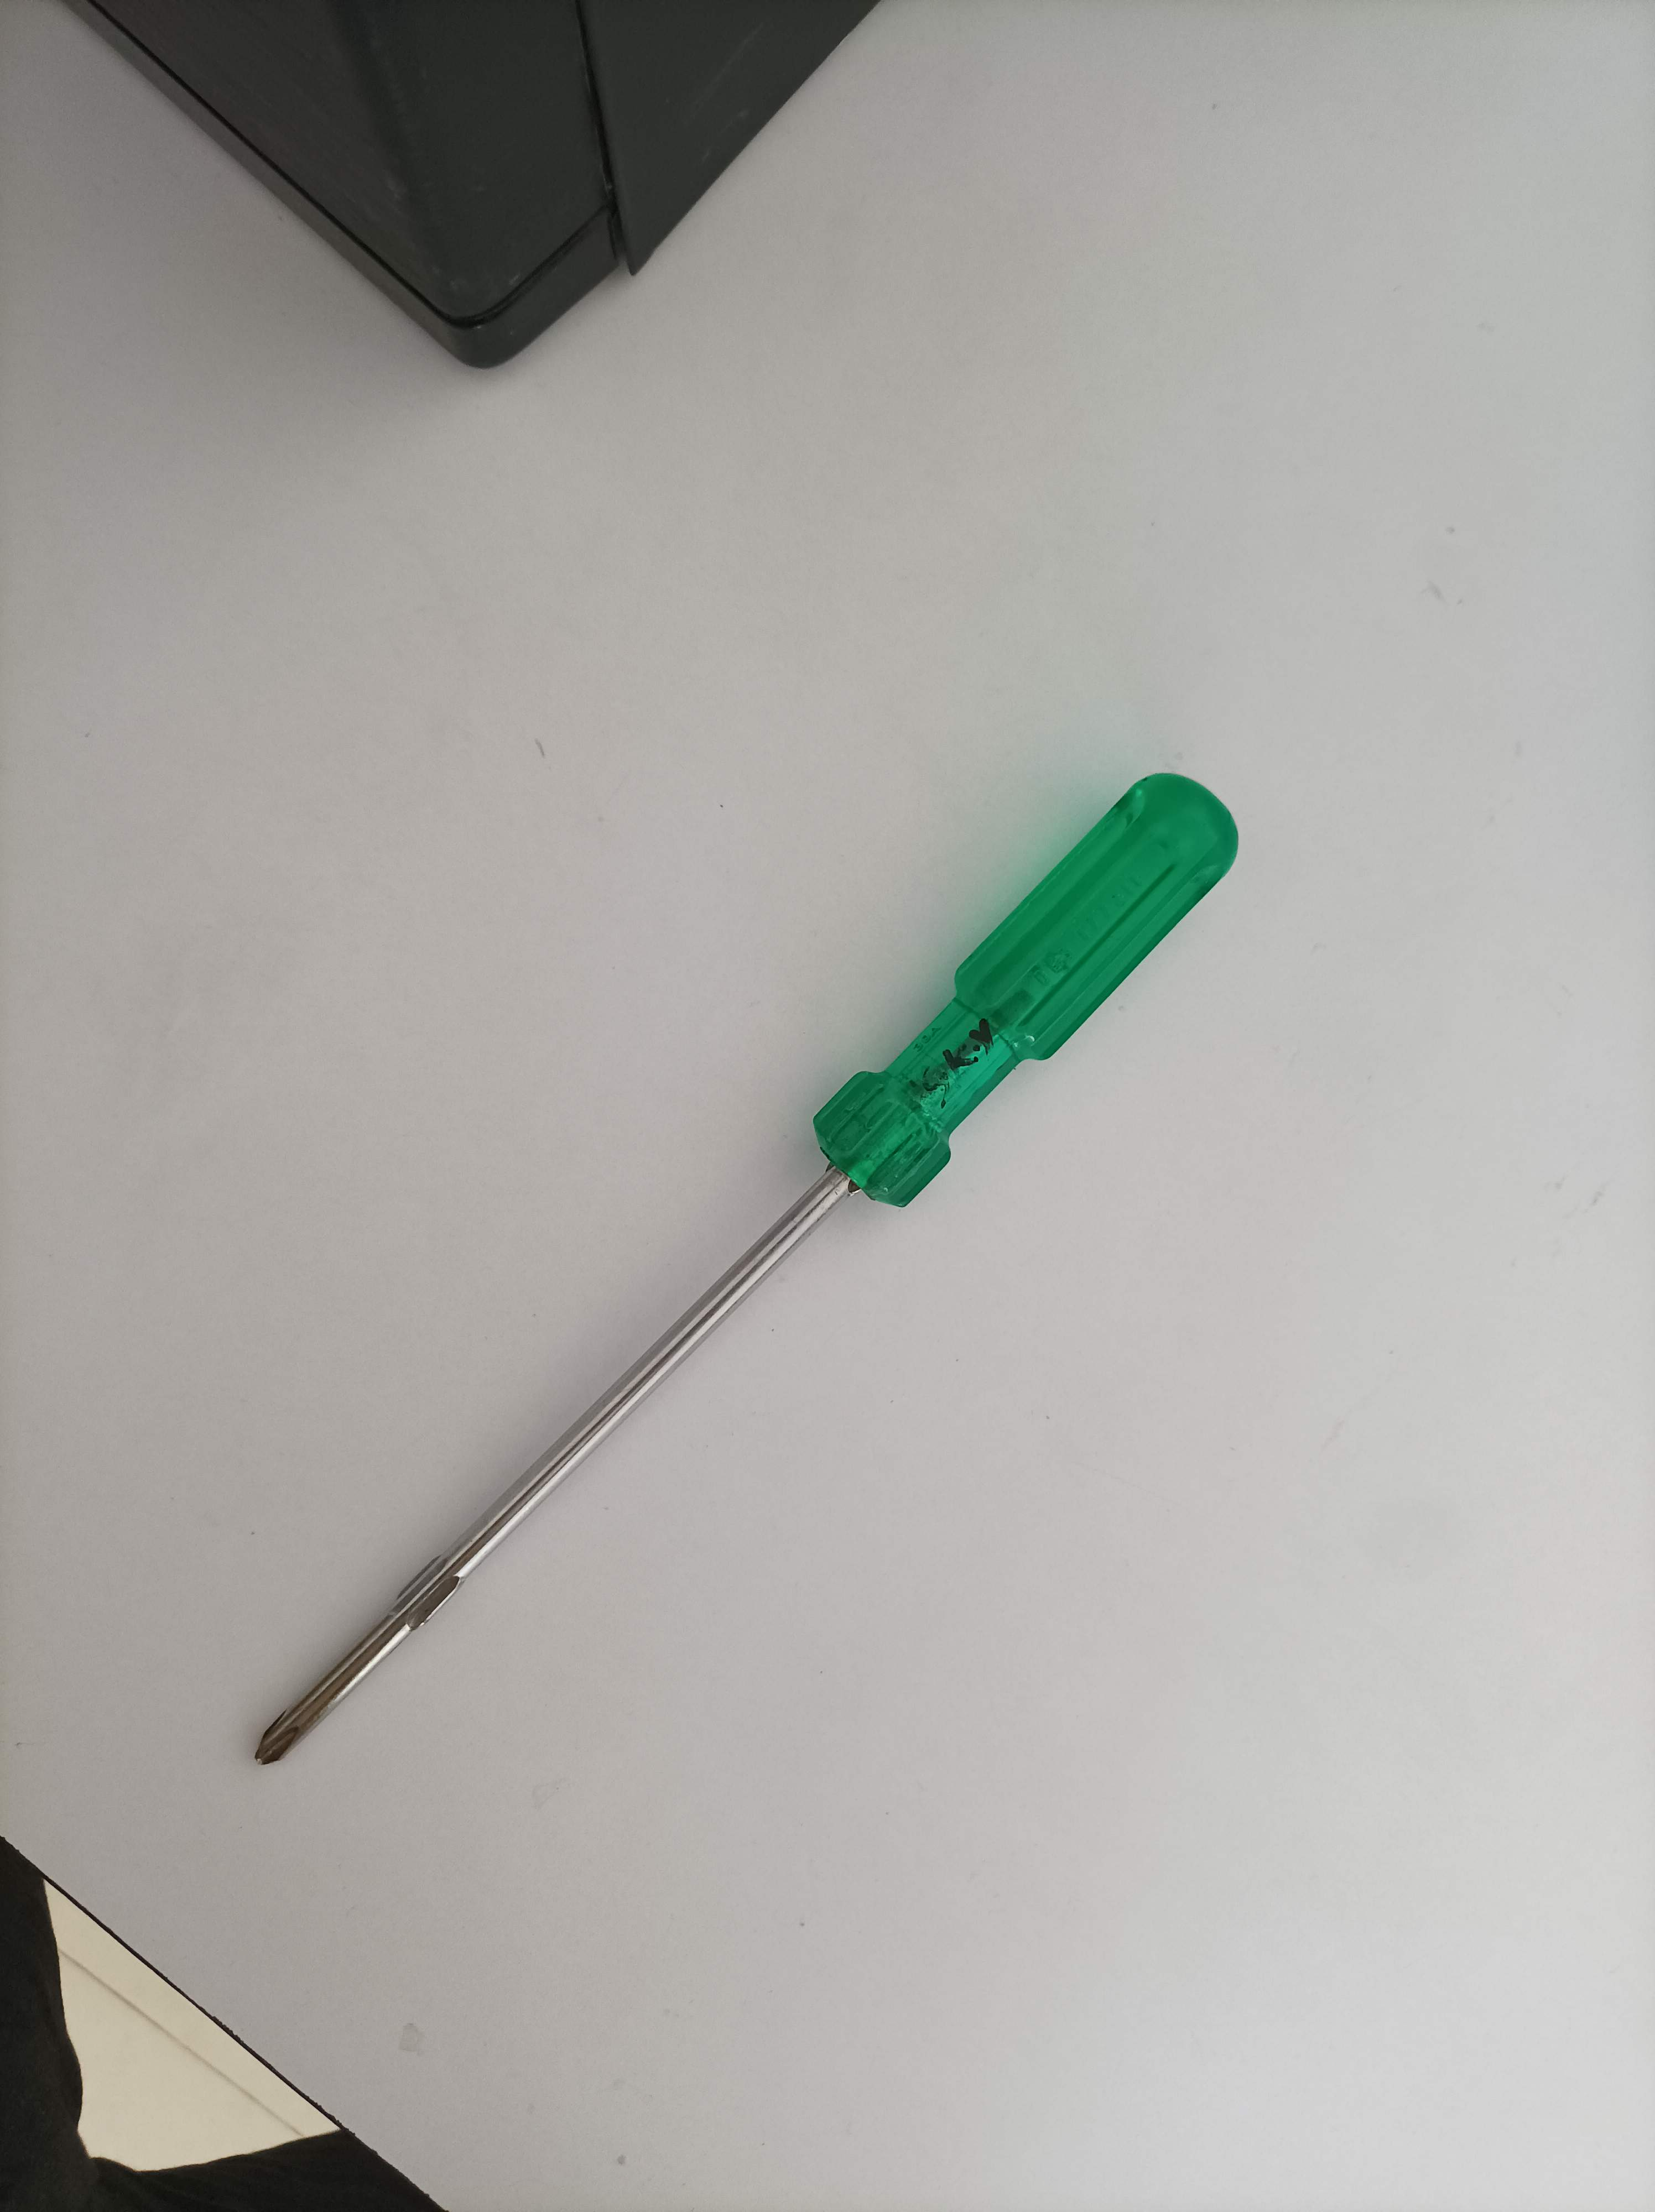screwdriver: (235, 765, 1253, 1778)
